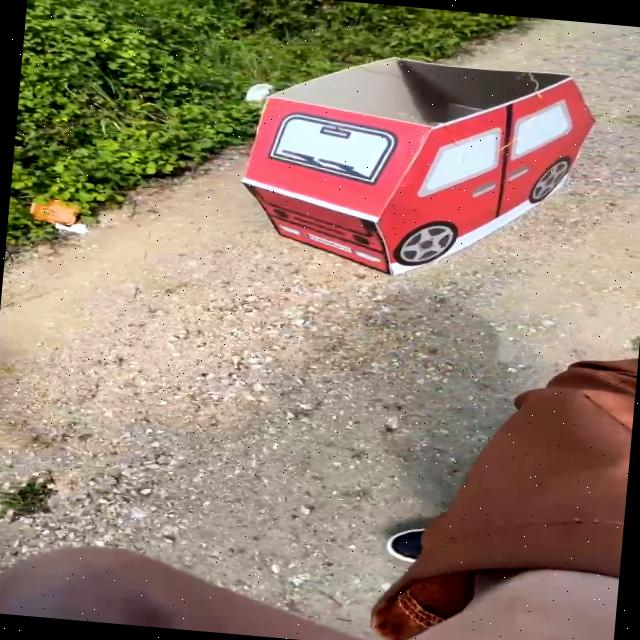red_car: (229, 25, 598, 288)
